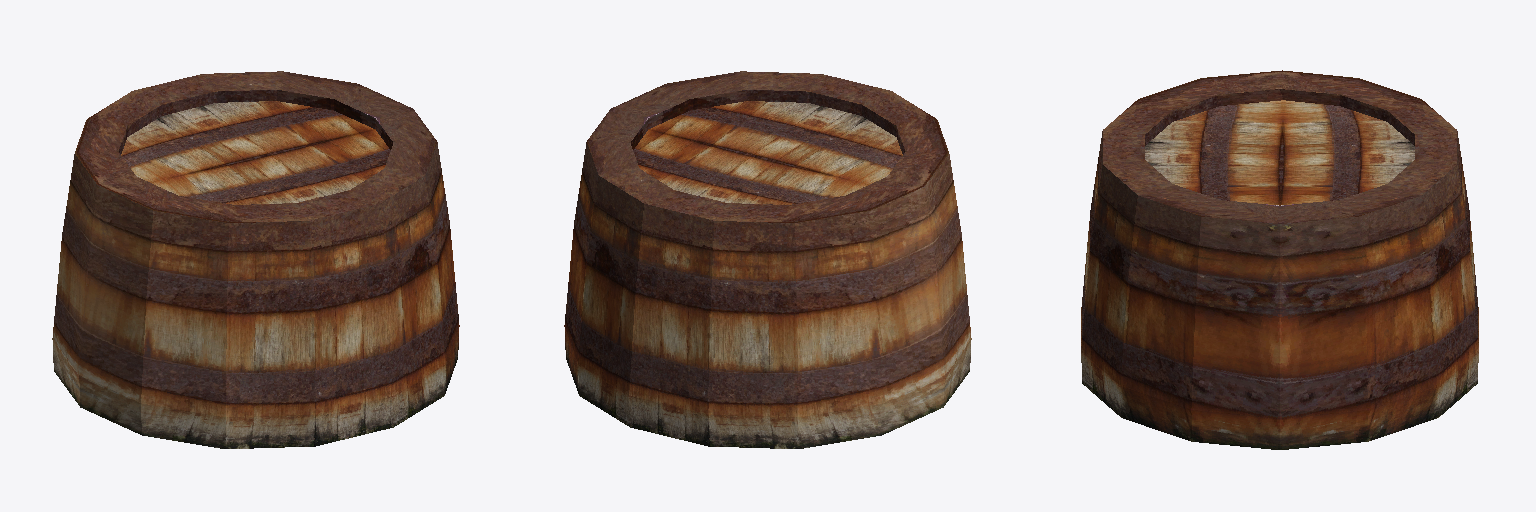
3 views of the same model, side by side, from view 1: azimuth 30°, elevation 25°; view 2: azimuth 150°, elevation 25°; view 3: azimuth 270°, elevation 25° (orthographic).
Parts seen in each view (by area): view 1: half_barrell; view 2: half_barrell; view 3: half_barrell.
Boxes of the visible parts, x1,y1,x2,y2 form: half_barrell: [52, 71, 459, 448]; half_barrell: [564, 71, 971, 448]; half_barrell: [1081, 70, 1478, 449].
Bounding box in the file's own units: 30.4 × 17.86 × 29.63.
Materials: 1 (1 with a texture image).